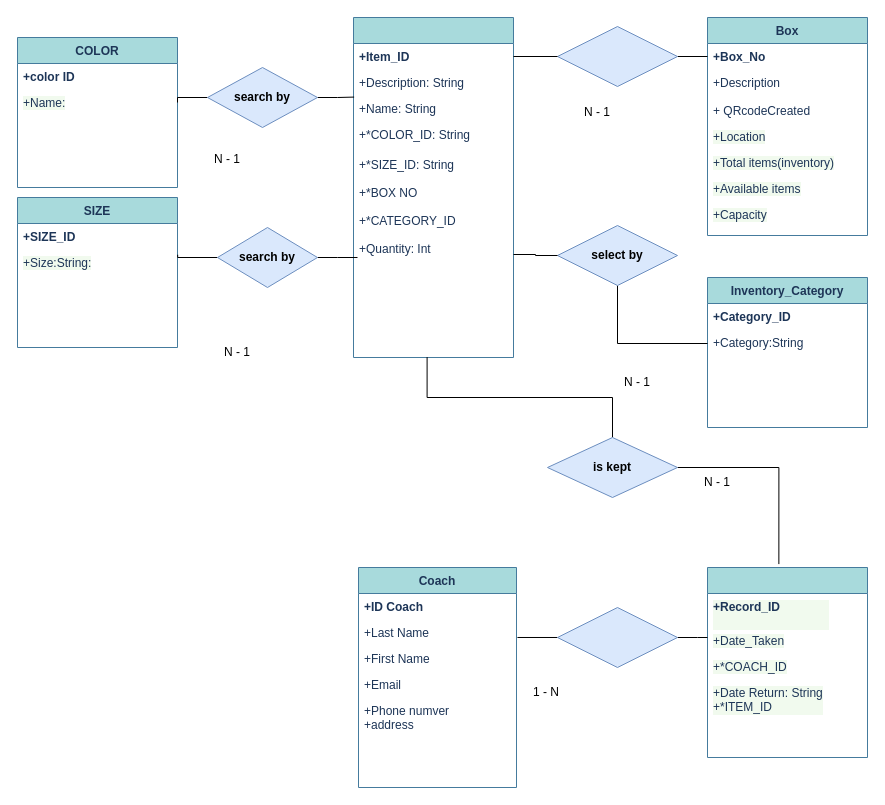
Some shapes in this 885 by 805 pixel diagram are drawn without their labels. Each missing label, with the box of its shape:
Inventory: (352, 16, 514, 358)
Items_Control: (706, 566, 868, 758)
records by: (556, 606, 678, 668)
Store in: (556, 26, 678, 86)
